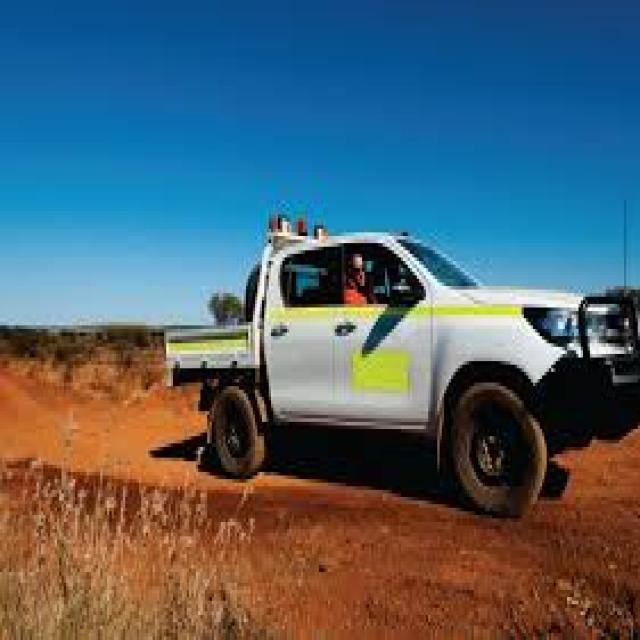light_vehicle: (152, 193, 638, 522)
